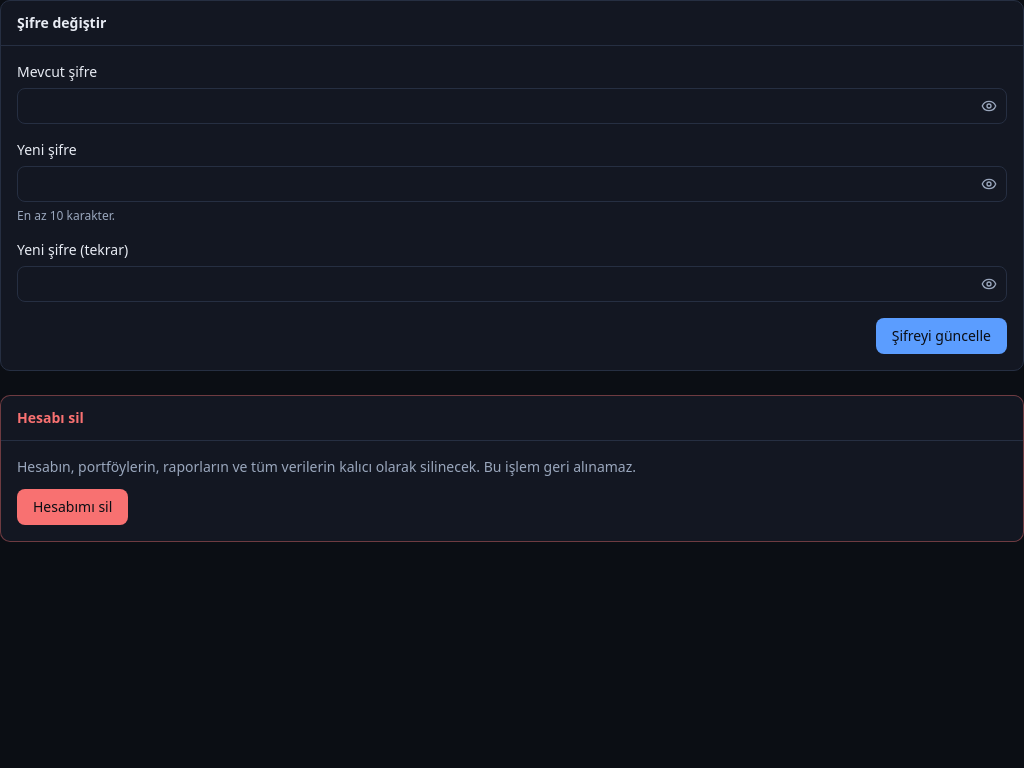
SecurityTab — şifre › geçerli şifrede PUT atar, başarı ve yeniden giriş eylemi gösterir
Type "secret12345" into the password field labelled "Mevcut şifre".
click(512, 106); type("secret12345")  # box [17,88,1007,124]
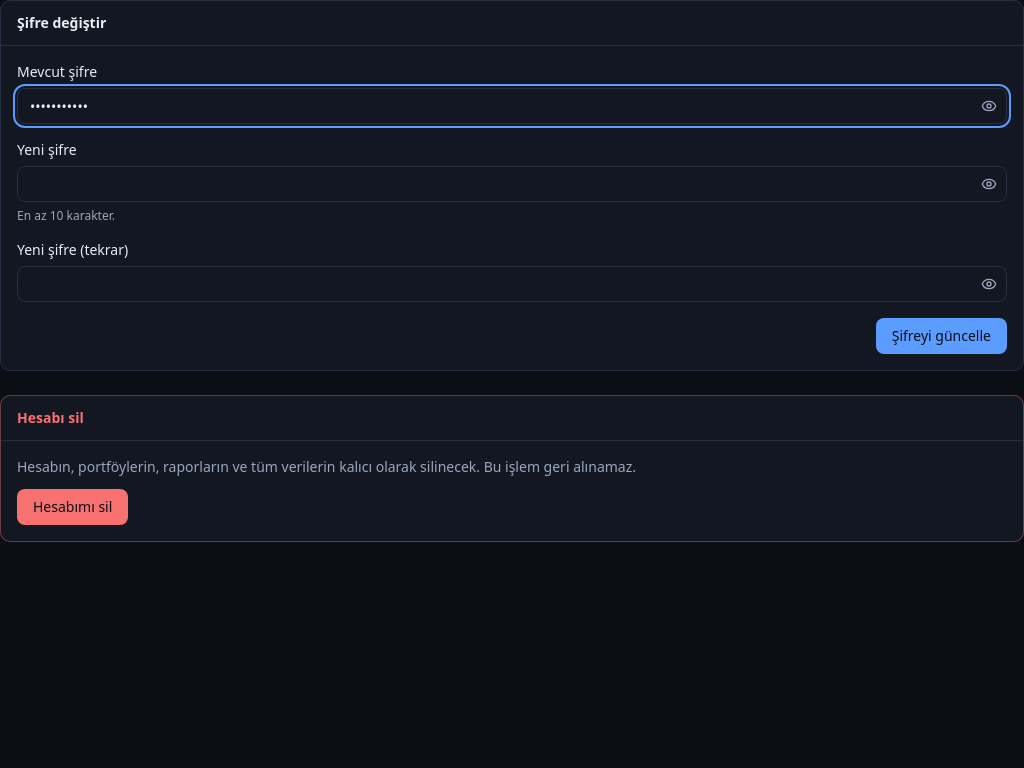
Type "yeniSifre123" into the password field labelled "Yeni şifre".
click(512, 184); type("yeniSifre123")  # box [17,166,1007,202]
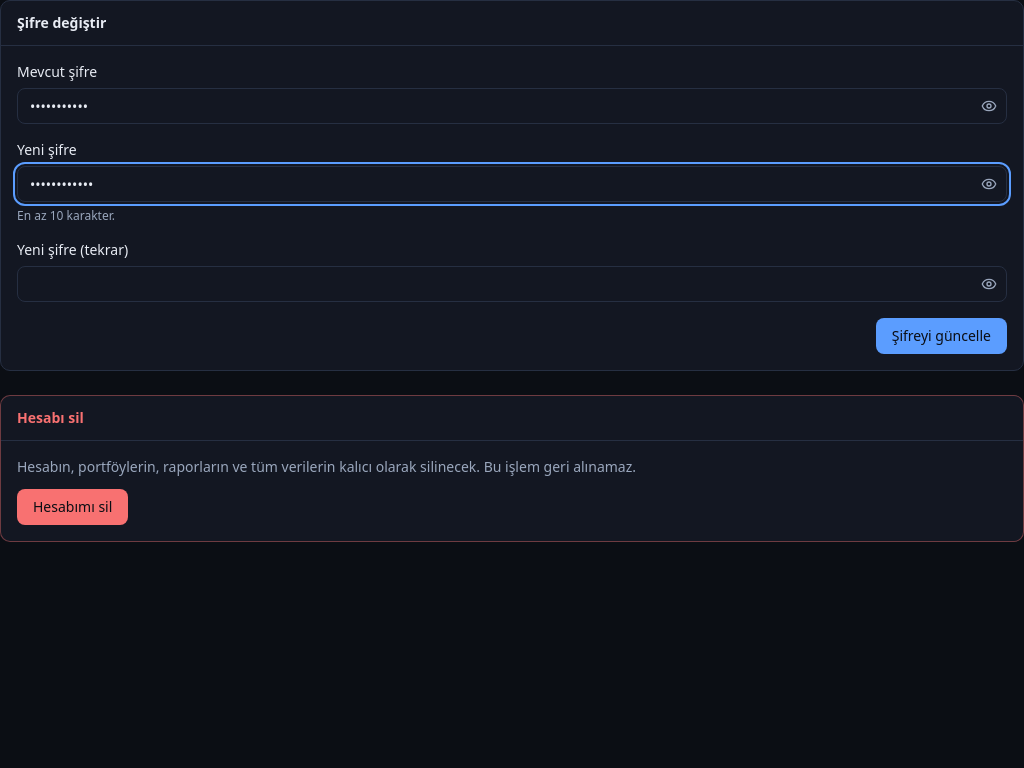
Type "yeniSifre123" into the password field labelled "Yeni şifre (tekrar)".
click(512, 284); type("yeniSifre123")  # box [17,266,1007,302]
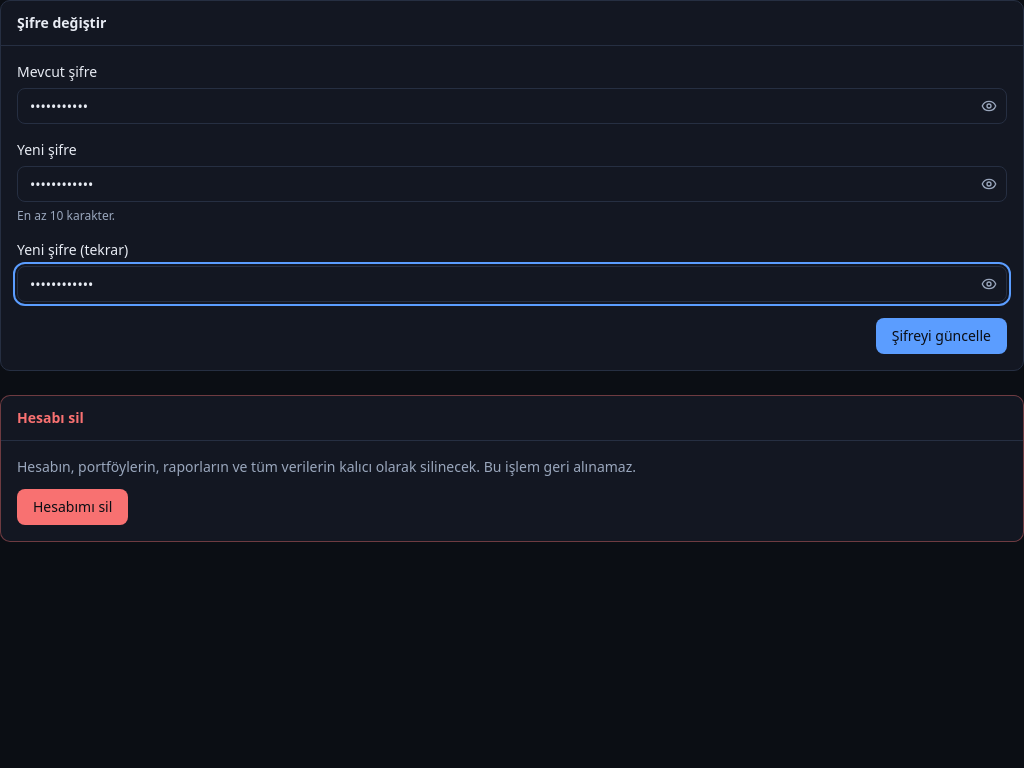
Click the button "Şifreyi güncelle".
click(941, 336)  # box [876,318,1007,354]
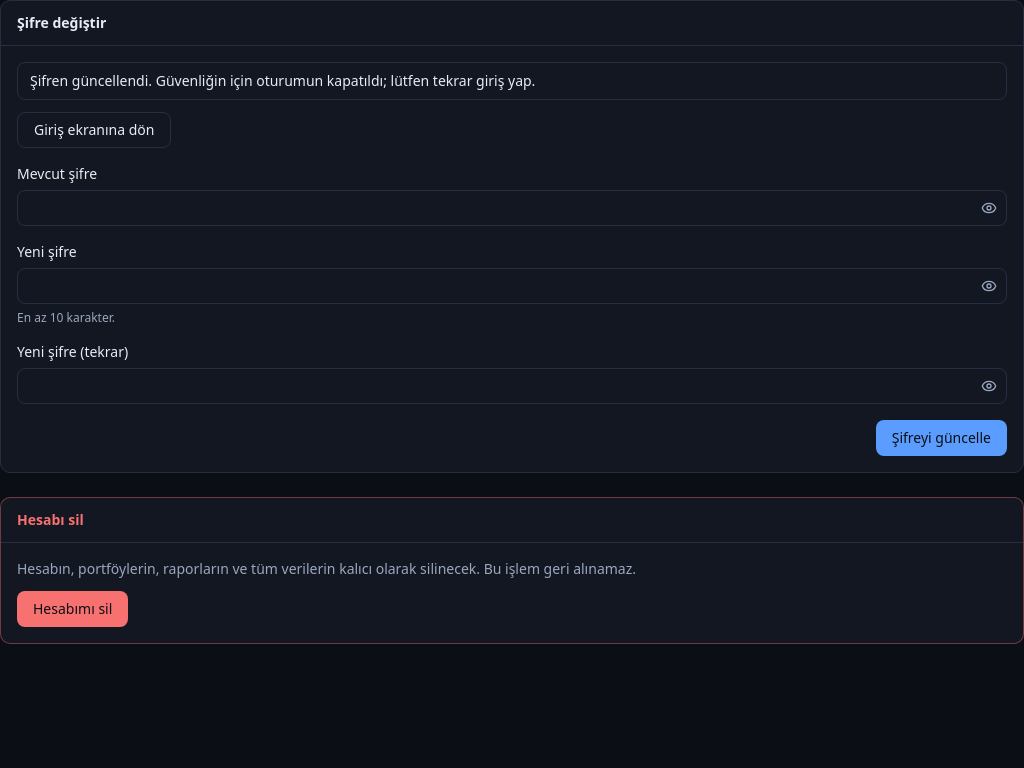
Expected: the message shows "Şifren güncellendi", [30,71,535,90]
Expected: the button "Giriş ekranına dön" is shown, [17,112,171,148]
